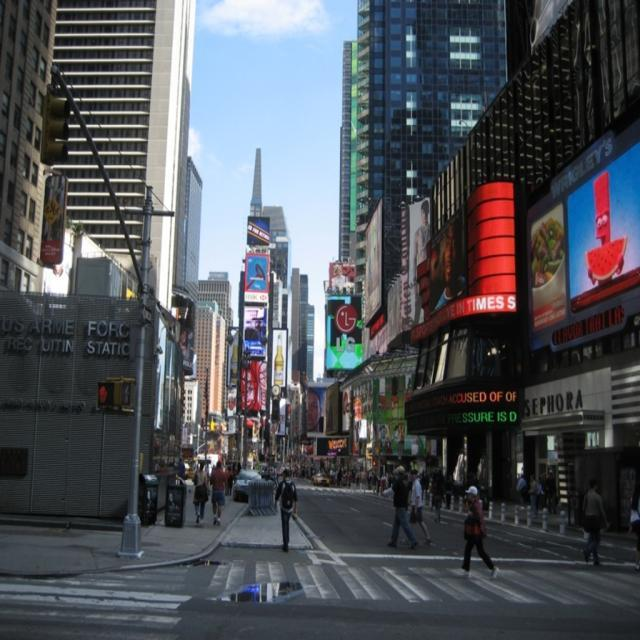off traffic light: (44, 91, 70, 168)
